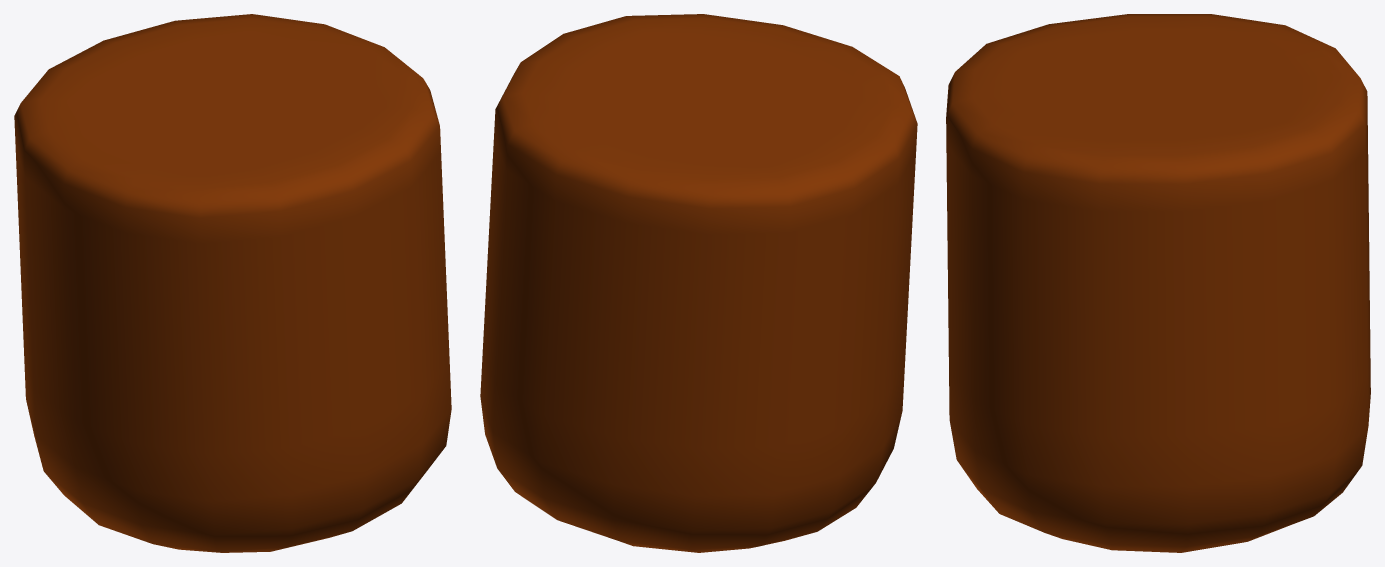
File: stairs.fbx
The picture shows the model from 3 angles, left to right: view 1: azimuth 30°, elevation 25°; view 2: azimuth 150°, elevation 25°; view 3: azimuth 270°, elevation 25°; orthographic projection. The views are drawn at different scales.
Visible parts, largest first — view 1: Cube.065; view 2: Cube.065; view 3: Cube.065.
Part boxes in pixels (box(x1,y1,x2,y2)): Cube.065: box(14, 14, 451, 552); Cube.065: box(480, 14, 917, 552); Cube.065: box(946, 14, 1370, 552).
Size of the model in its own units: 394 by 426 by 383.
